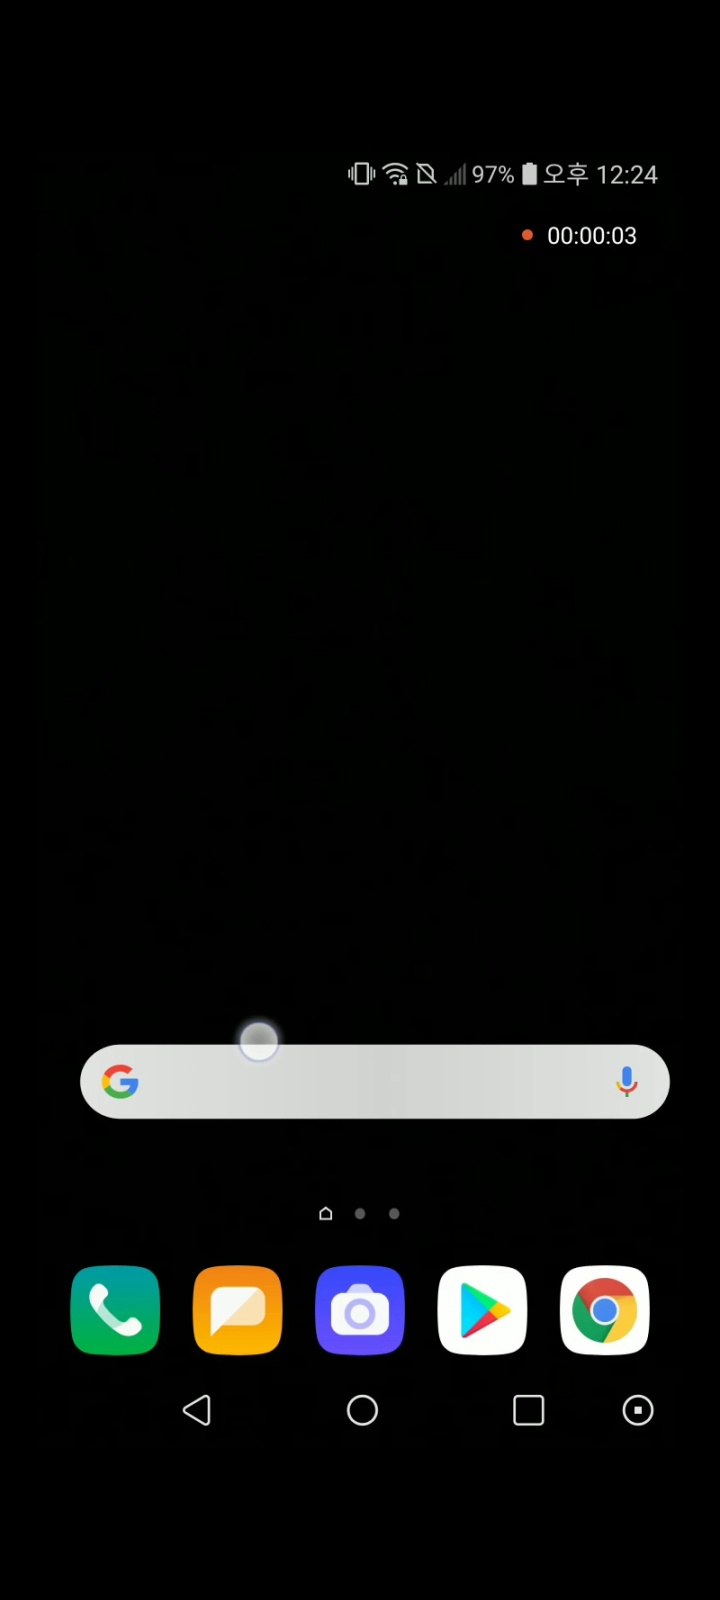Cursor: (237, 1022, 282, 1067)
